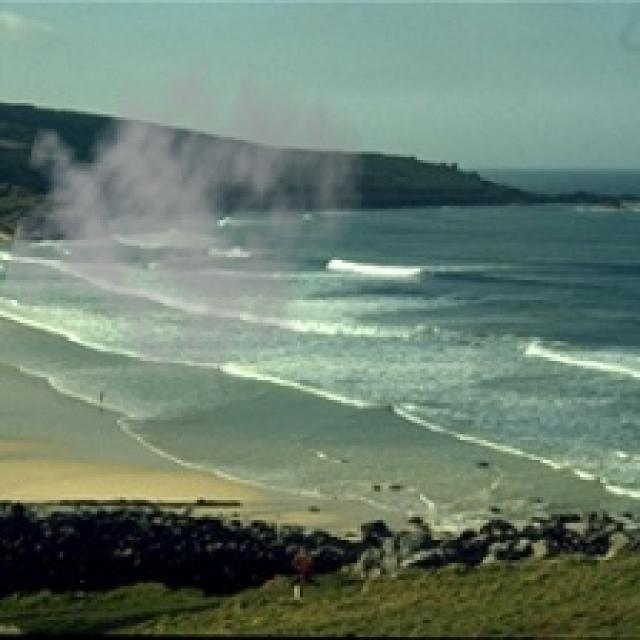Smoke: (0, 28, 369, 400)
